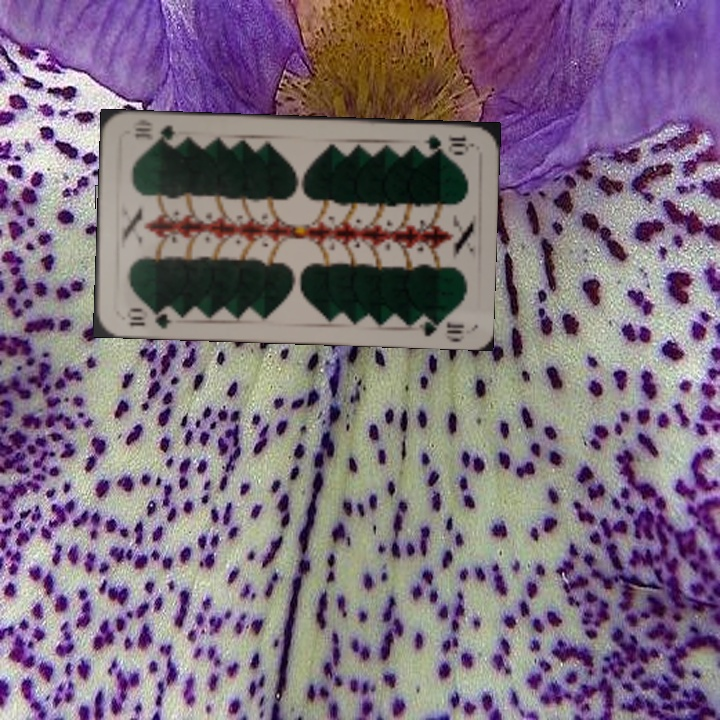G10: (122, 303, 173, 331), (419, 130, 474, 155)
